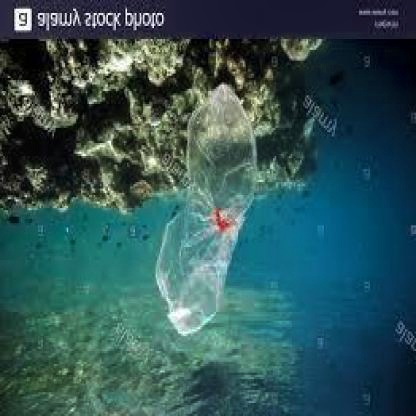pbag: (156, 82, 257, 336)
